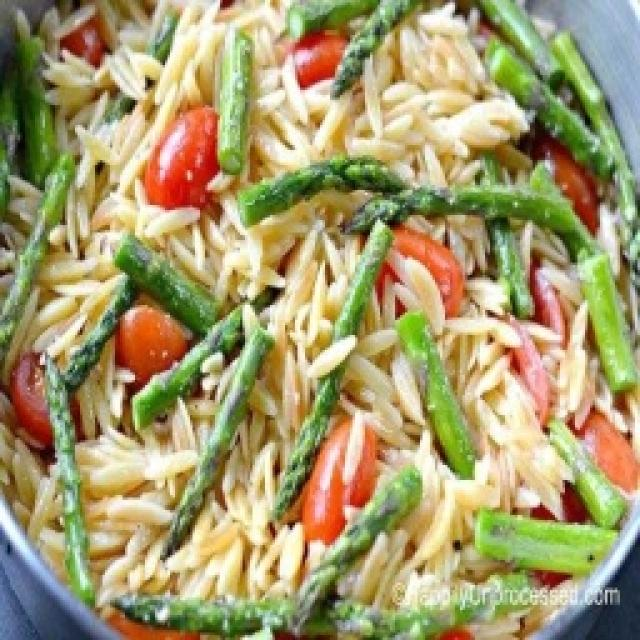Asparagus spear: (237, 166, 406, 221), (202, 364, 254, 523), (327, 2, 409, 100), (420, 182, 588, 220), (208, 22, 257, 146), (329, 490, 389, 588), (336, 227, 381, 335)
